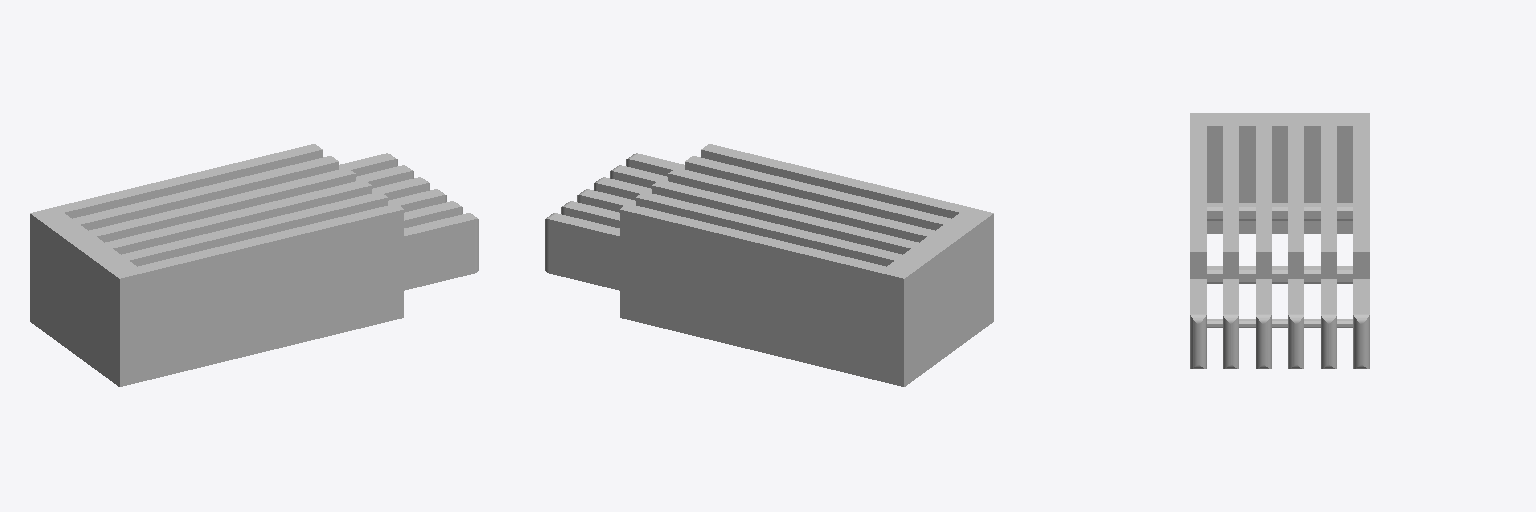
The model's file is rotor cage.obj.
The picture shows the model from 3 angles: view 1: azimuth 30°, elevation 25°; view 2: azimuth 150°, elevation 25°; view 3: azimuth 270°, elevation 25°; orthographic projection.
Parts seen in each view (by area): view 1: Rotor_Cage_Plane; view 2: Rotor_Cage_Plane; view 3: Rotor_Cage_Plane.
Part boxes in pixels (left/top/right/bottom): Rotor_Cage_Plane: left=30, top=144, right=478, bottom=386; Rotor_Cage_Plane: left=545, top=144, right=993, bottom=386; Rotor_Cage_Plane: left=1190, top=113, right=1369, bottom=368.
Bounding box in the file's own units: 3.5 × 1 × 1.5.